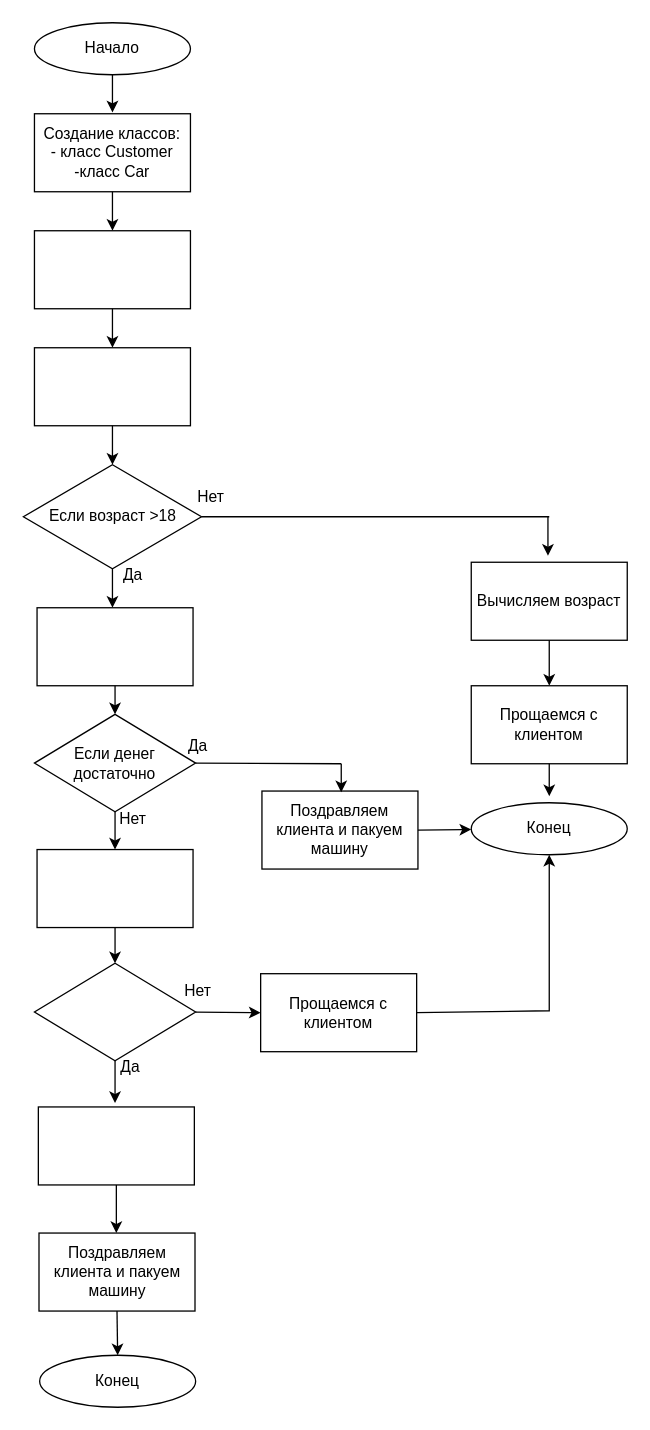
Some shapes in this 650 by 1430 pixel diagram are drawn without their labels. The centre of each missing label's shape, as x and y in pixels:
"Вводим возраст покупателя" goes at (111,386).
"Вводим сумму денег на покупку" goes at (114,646).
"Инициализация объектов: - Car -Customer" goes at (111,269).
"Оформление кредита?" goes at (114,1011).
"Получаем признак на кредитование" goes at (114,888).
"Рассчитываем и оформляем кредит" goes at (115,1145).
